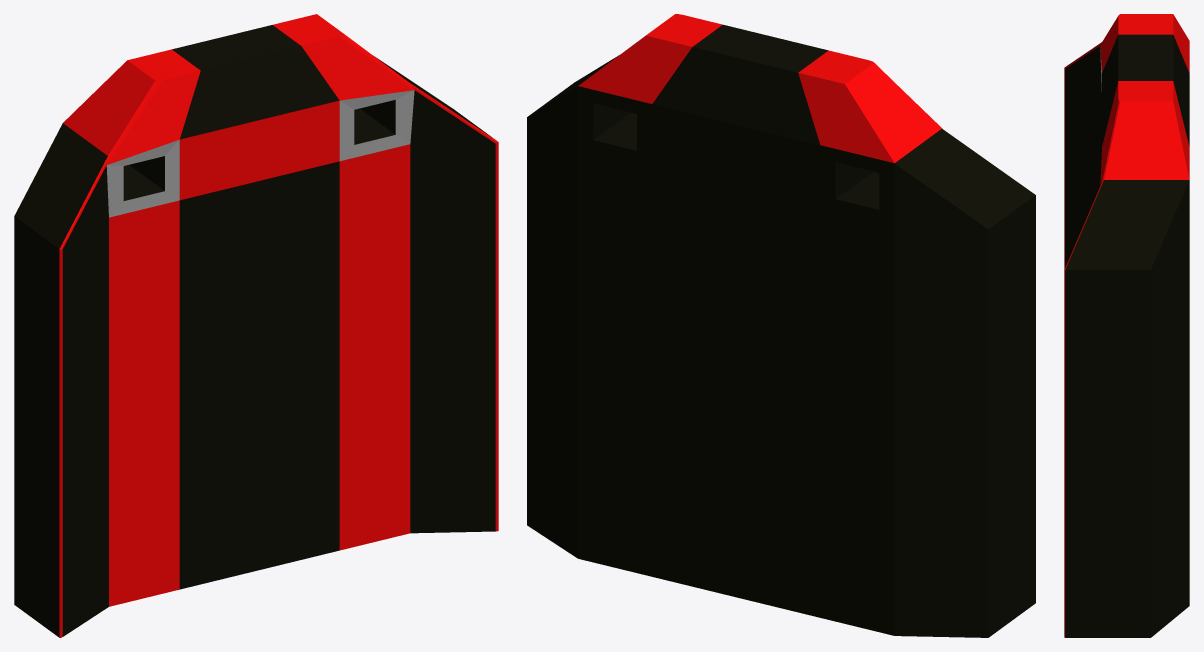
Rendered from Chair.fbx.
3 renders of one model, left to right at view 1: azimuth 30°, elevation 25°; view 2: azimuth 150°, elevation 25°; view 3: azimuth 270°, elevation 25°, orthographic. The views are drawn at different scales.
Parts seen in each view (by area): view 1: Chair; view 2: Chair; view 3: Chair.
Boxes of the visible parts, <box> form: Chair: <box>14,14,498,637</box>; Chair: <box>527,14,1035,637</box>; Chair: <box>1064,14,1189,637</box>.
Size of the model in its own units: 3631 by 3993 by 945.
